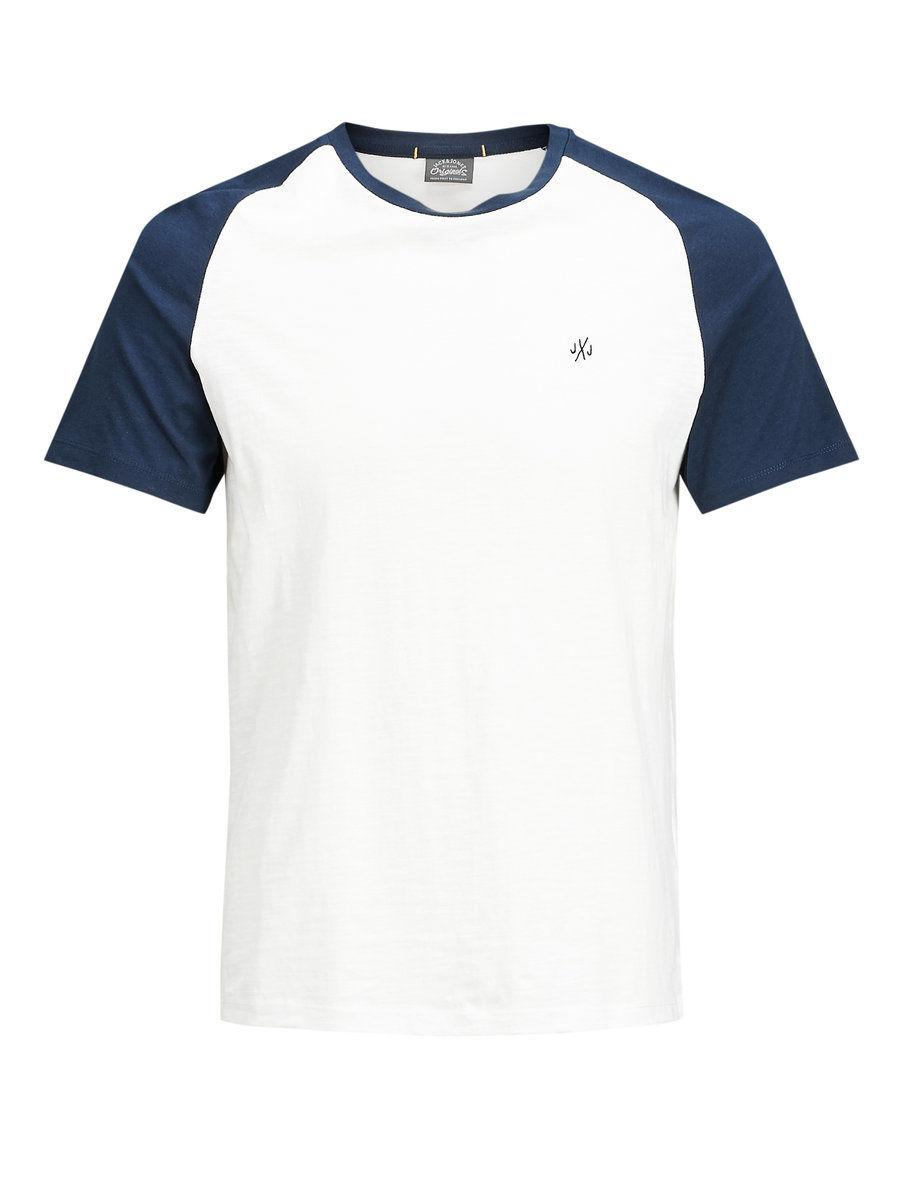teeshirt: (11, 111, 894, 1089)
